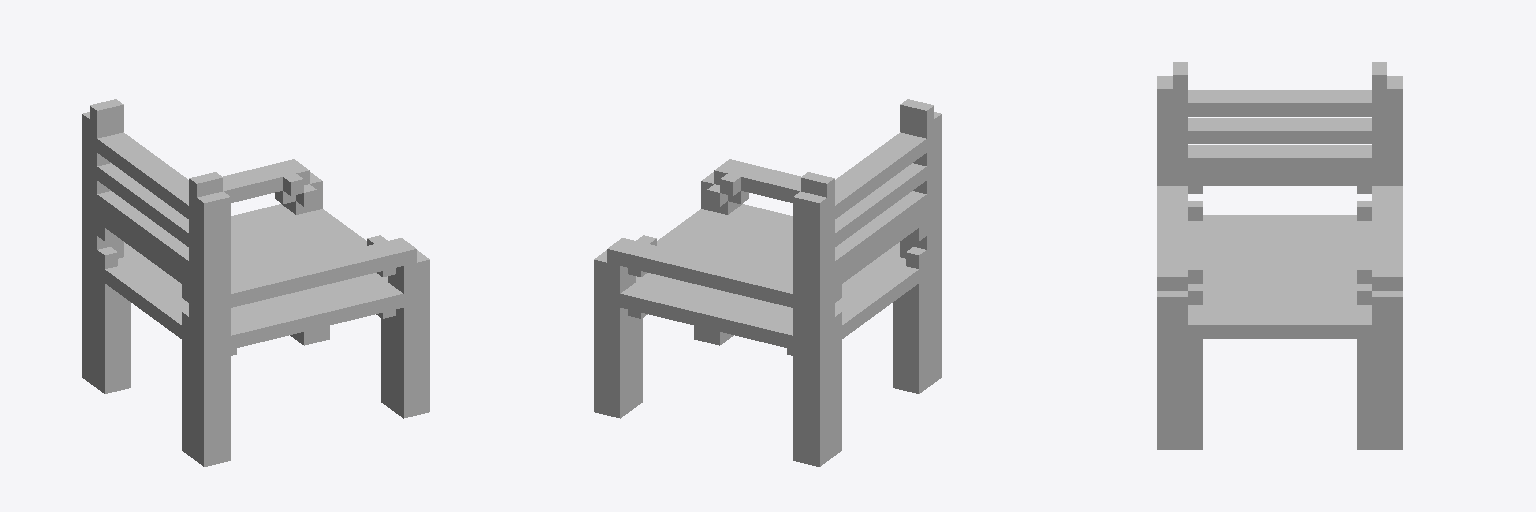
File: Chair.obj
3 renders of one model, left to right at view 1: azimuth 30°, elevation 25°; view 2: azimuth 150°, elevation 25°; view 3: azimuth 270°, elevation 25°, orthographic.
Parts seen in each view (by area): view 1: object 1; view 2: object 1; view 3: object 1.
Part boxes in pixels (x1,y1,x2,y2): object 1: (82, 99, 429, 466); object 1: (594, 99, 941, 466); object 1: (1157, 62, 1402, 449).
Bounding box in the file's own units: 1.7 × 2 × 1.6.